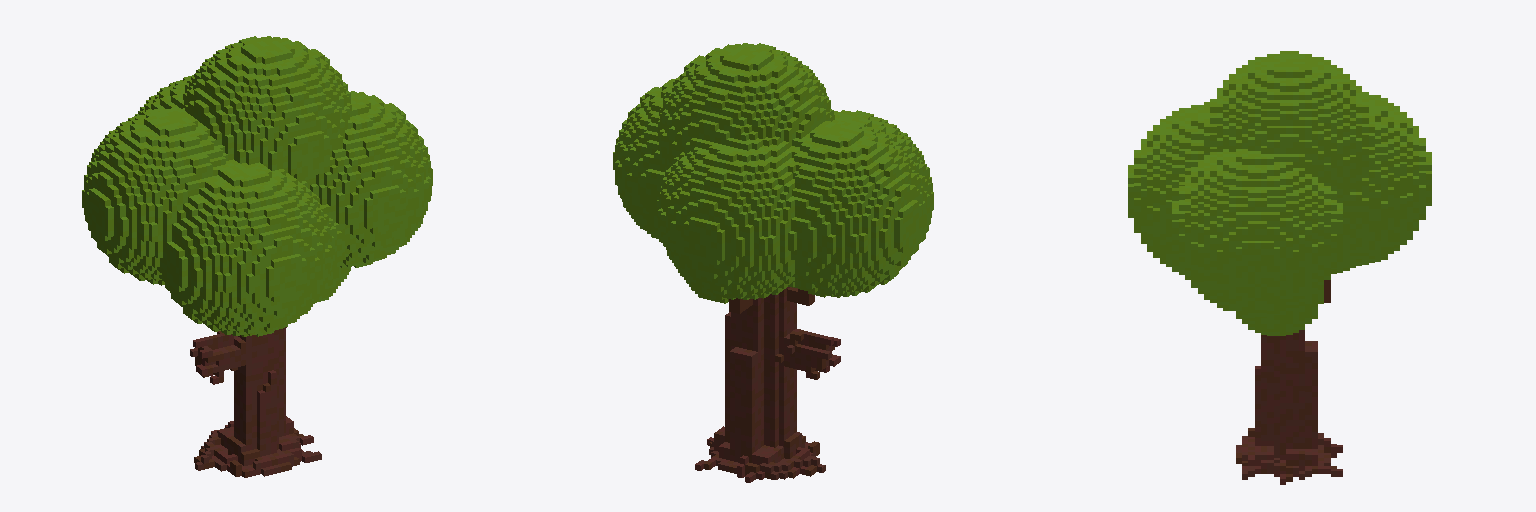
The picture shows the model from 3 angles: view 1: azimuth 30°, elevation 25°; view 2: azimuth 150°, elevation 25°; view 3: azimuth 270°, elevation 25°; orthographic projection.
Parts seen in each view (by area): view 1: object 1; view 2: object 1; view 3: object 1.
Boxes of the visible parts, box(x1,y1,x2,y2) form: object 1: box(82, 36, 432, 477); object 1: box(613, 43, 933, 482); object 1: box(1128, 51, 1431, 484).
Bounding box in the file's own units: 5.5 × 7 × 4.8.
Materials: 1 (1 with a texture image).